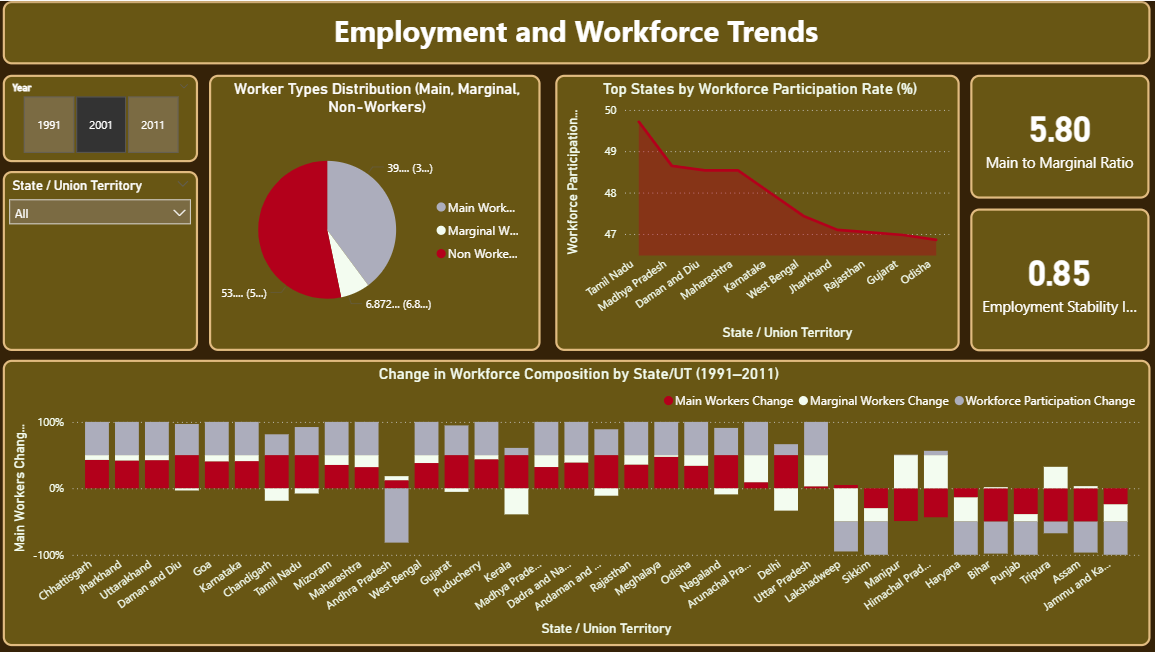

Layout of this report page (visuals, bound fields, positions):
{"tool":"powerbi","page":{"name":"Employment & WorkForce","canvas":[1280,720],"ordinal":4},"visuals":[{"type":"textbox","box":[9.6,0,1259.7,70],"z":0},{"type":"pieChart","title":" Worker Types Distribution (Main, Marginal, Non-Workers)","fields":{"Y":["MeasuresTable.Main Workers %","MeasuresTable.Marginal Workers %","MeasuresTable.Non Workers %"]},"box":[236,81,363.6,303.3],"z":1000},{"type":"slicer","fields":{"Values":["CensusData.Year"]},"box":[9.6,81,214.1,96.1],"z":2000},{"type":"slicer","fields":{"Values":["CensusData.State / Union Territory"]},"box":[9.6,186.6,214.1,197.6],"z":3000},{"type":"stackedAreaChart","title":" Top States by Workforce Participation Rate (%)","fields":{"Category":["CensusData.State / Union Territory"],"Y":["MeasuresTable.Workforce Participation %"]},"box":[615.7,81.4,444.3,302.9],"z":4000},{"type":"hundredPercentStackedColumnChart","title":" Change in Workforce Composition by State/UT (1991–2011)","fields":{"Category":["CensusData.State / Union Territory"],"Y":["MeasuresTable.Main Workers Change","MeasuresTable.Marginal Workers Change","MeasuresTable.Workforce Participation Change"]},"box":[9.6,393.8,1259.7,314.2],"z":5000},{"type":"card","fields":{"Values":["MeasuresTable.Main to Marginal Ratio"]},"box":[1071.4,81.4,197.1,135.7],"z":6000},{"type":"card","fields":{"Values":["MeasuresTable.Employment Stability Index"]},"box":[1071.4,227.1,197.1,157.1],"z":7000}]}

Visuals, with their boxes in screenshot pixels (x1, y1, x2, y2), scaled from the page's 1280x720 canvas onto the 1155x652 screenshot:
textbox: x1=9 y1=0 x2=1145 y2=63
" Worker Types Distribution (Main, Marginal, Non-Workers)" pieChart: x1=213 y1=73 x2=541 y2=348
slicer - CensusData.Year: x1=9 y1=73 x2=202 y2=160
slicer - CensusData.State / Union Territory: x1=9 y1=169 x2=202 y2=348
" Top States by Workforce Participation Rate (%)" stackedAreaChart: x1=556 y1=74 x2=956 y2=348
" Change in Workforce Composition by State/UT (1991–2011)" hundredPercentStackedColumnChart: x1=9 y1=357 x2=1145 y2=641
card - MeasuresTable.Main to Marginal Ratio: x1=967 y1=74 x2=1145 y2=197
card - MeasuresTable.Employment Stability Index: x1=967 y1=206 x2=1145 y2=348
